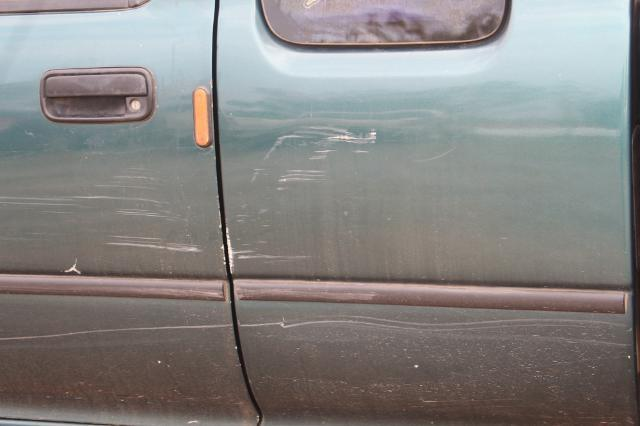rub: (228, 123, 386, 277), (0, 163, 205, 256)
scratch: (241, 315, 640, 334), (0, 322, 234, 344)
